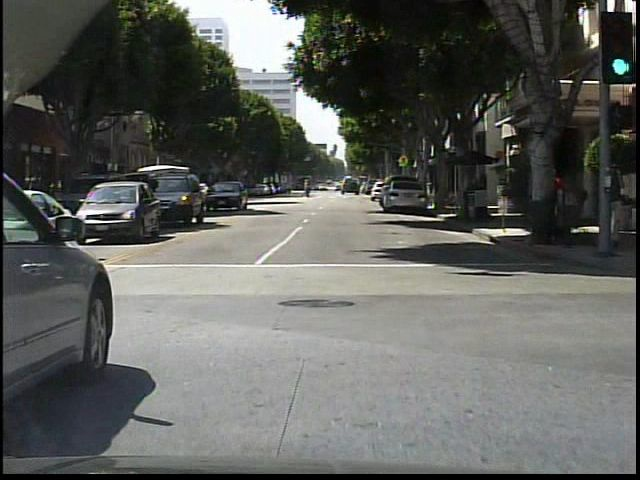person: (600, 157, 623, 247), (550, 170, 565, 234), (464, 170, 480, 221), (301, 178, 311, 197)
